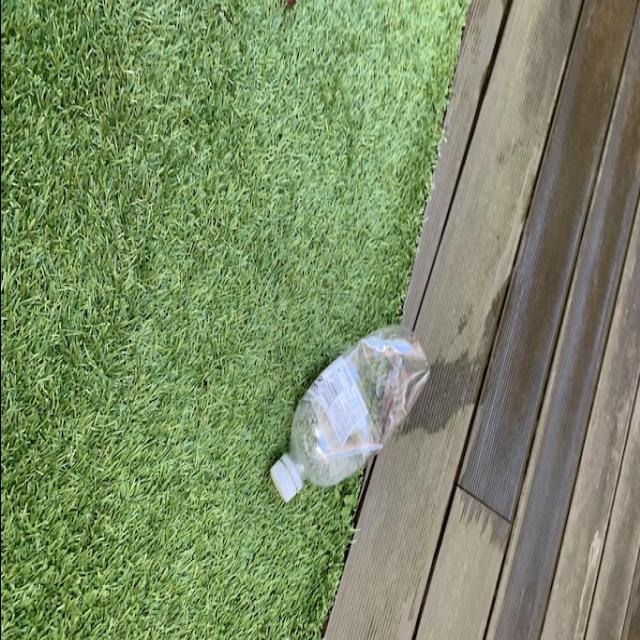litter: (268, 324, 428, 506)
